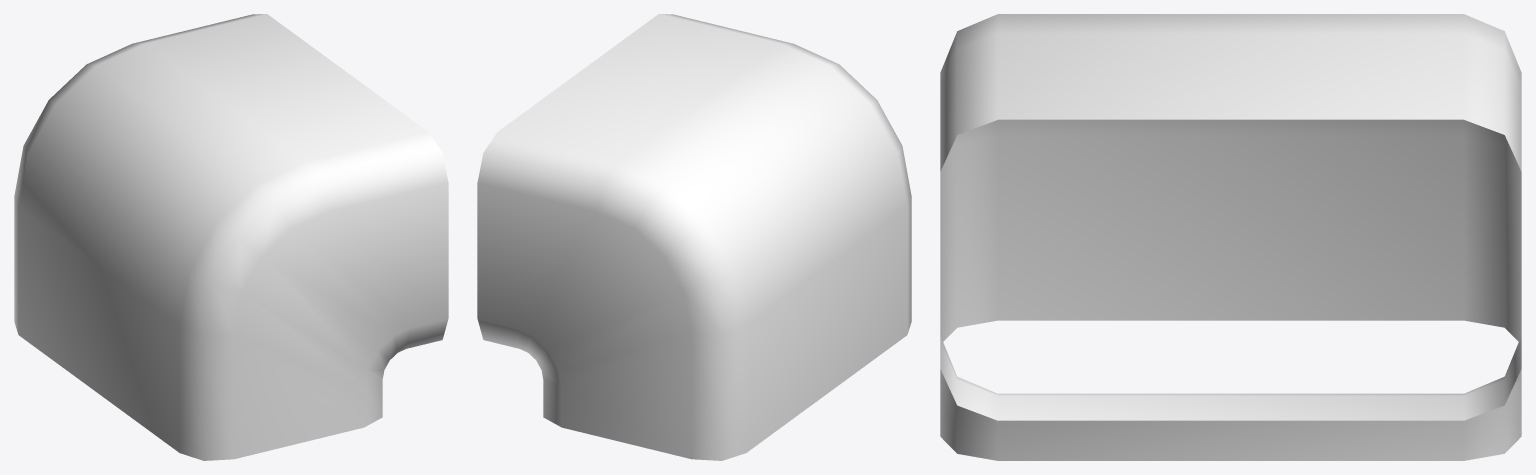
Rendered from BoardBorder_3.fbx.
3 renders of one model, left to right at view 1: azimuth 30°, elevation 25°; view 2: azimuth 150°, elevation 25°; view 3: azimuth 270°, elevation 25°, orthographic. The views are drawn at different scales.
Parts seen in each view (by area): view 1: BoardBorder_3; view 2: BoardBorder_3; view 3: BoardBorder_3.
Part boxes in pixels (left/top/right/bottom): BoardBorder_3: left=14, top=14, right=448, bottom=460; BoardBorder_3: left=477, top=14, right=911, bottom=460; BoardBorder_3: left=940, top=14, right=1521, bottom=460.
Size of the model in its own units: 0.5 by 0.5 by 0.7.
